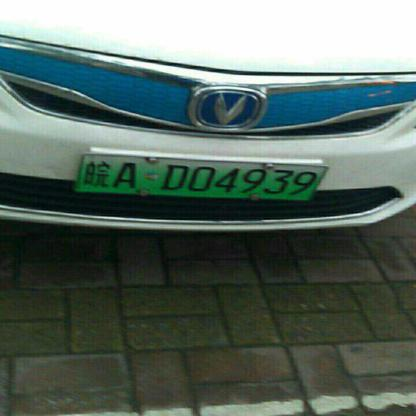lp: (74, 153, 329, 201)
